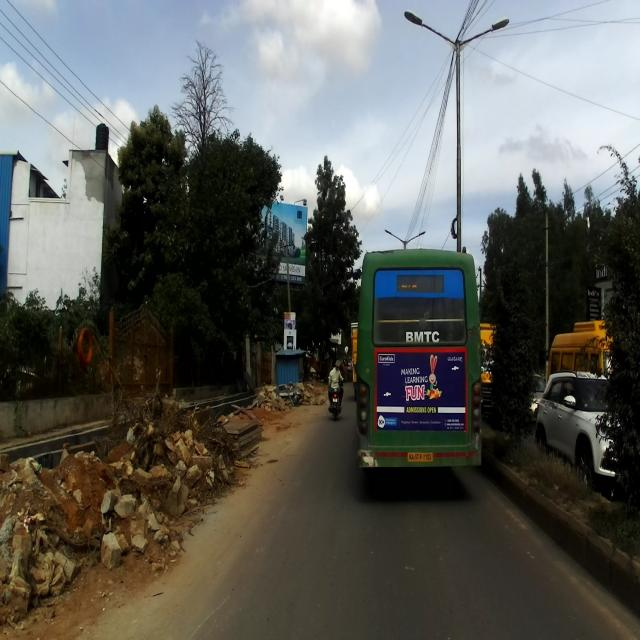bus: (357, 244, 482, 472)
